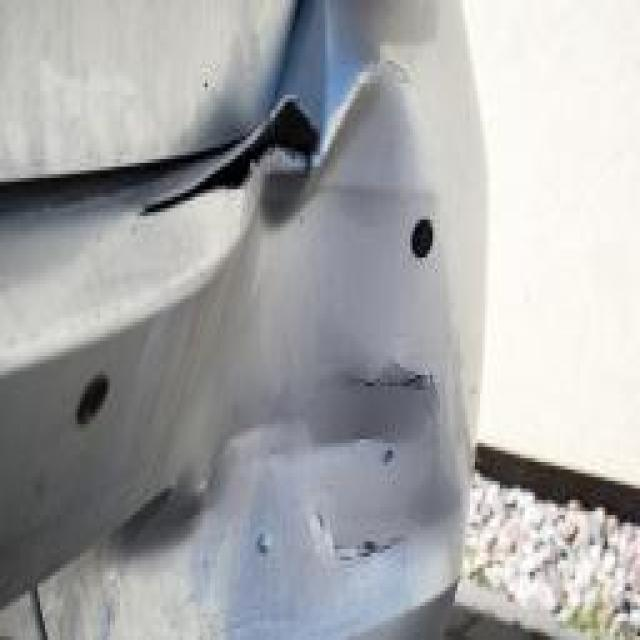Bumper: (117, 15, 493, 640)
